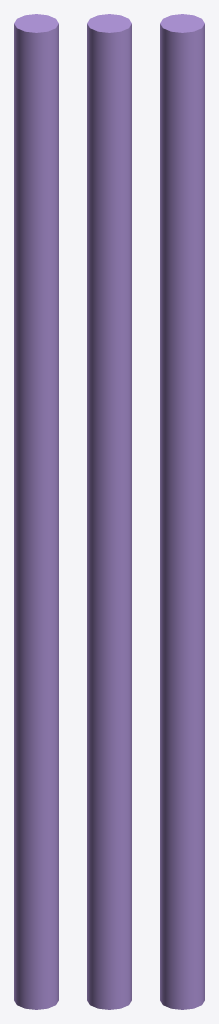
File: refine_cylinder_3.obj
The picture shows the model from 3 angles, left to right: view 1: azimuth 90°, elevation 25°; view 2: azimuth 150°, elevation 25°; view 3: azimuth 270°, elevation 25°; orthographic projection.
Parts seen in each view (by area): view 1: Cylinder003; view 2: Cylinder003; view 3: Cylinder003.
Boxes of the visible parts, x1,y1,x2,y2 form: Cylinder003: (14,14,58,1009); Cylinder003: (87,14,131,1009); Cylinder003: (160,14,204,1009).
Size of the model in its own units: 0.334 by 8.02 by 0.334.
